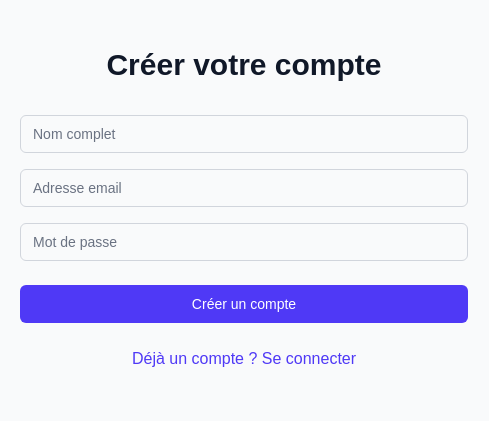
Test: SignUp Page › shows error message on signup failure
The width and height of the screenshot is (489, 421).
Type "John Doe" into the field with test id "name-input". click: (244, 134)
box: [20,115,468,153]
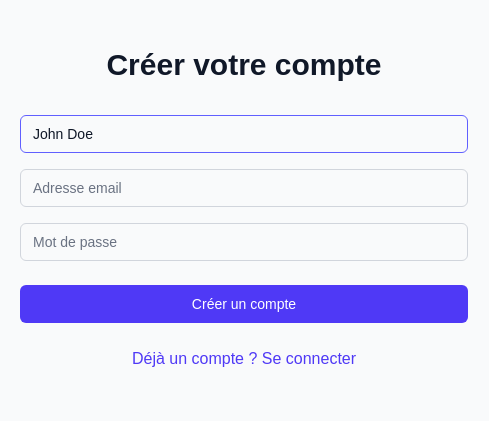
Type "existing@example.com" into the field with test id "email-input". click: (244, 188)
box: [20,169,468,207]
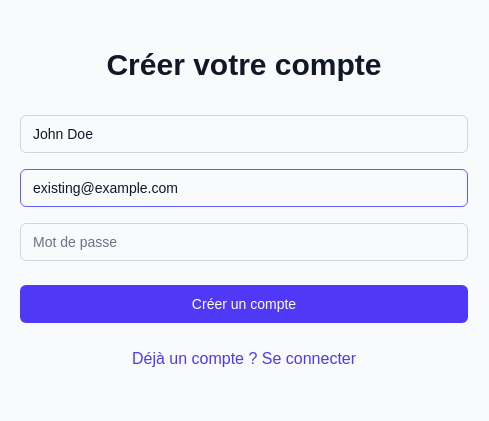
Type "password123" into the password field with test id "password-input". click: (244, 242)
box: [20,223,468,261]
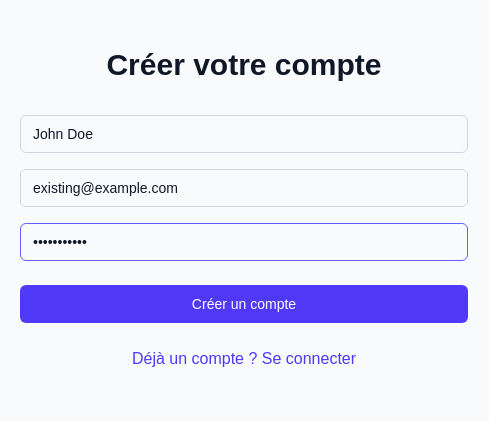
Click the button with test id "signup-submit-button". click: (244, 304)
box: [20,285,468,323]
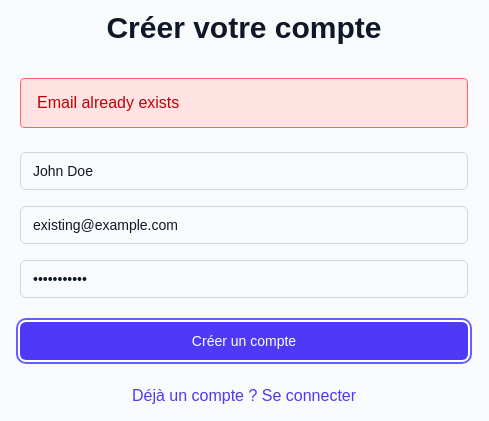
Expected: the text "Email already exists" is shown, [20,78,468,128]
Expected: the text with test id "signup-error" reads "Email already exists", [37,94,179,111]
